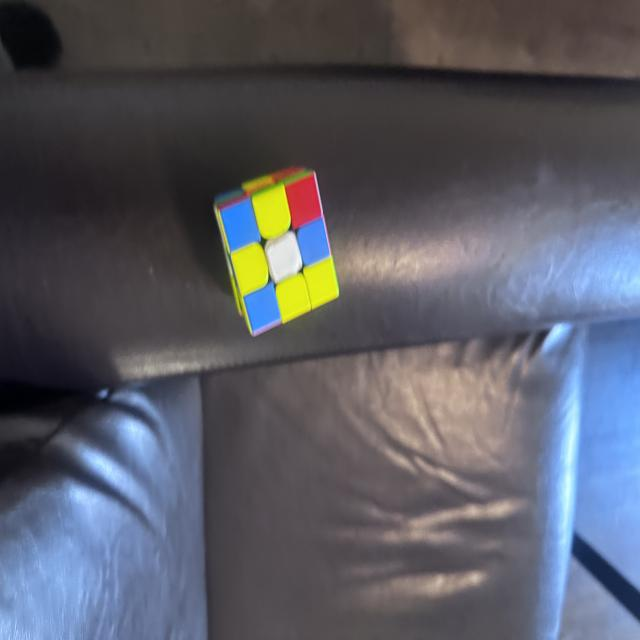sticker: (250, 182, 292, 241), (218, 194, 260, 251), (284, 170, 322, 228), (230, 241, 269, 296), (302, 256, 340, 310), (243, 282, 281, 336), (294, 216, 332, 267), (274, 272, 310, 325)
